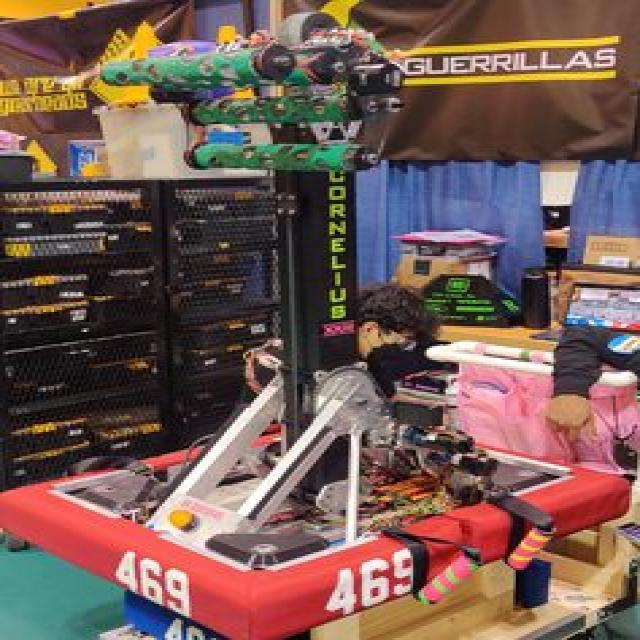robot: (5, 13, 629, 640)
